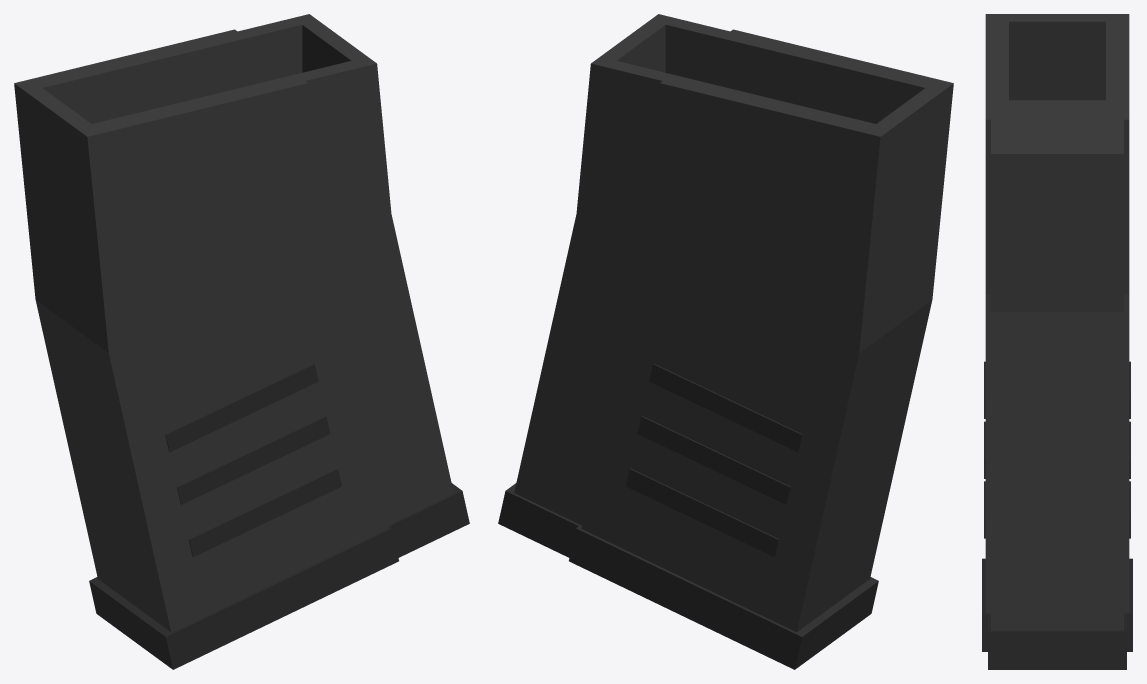
File: SniperRifle6_05_2.fbx
3 renders of one model, left to right at view 1: azimuth 30°, elevation 25°; view 2: azimuth 150°, elevation 25°; view 3: azimuth 270°, elevation 25°, orthographic.
Parts seen in each view (by area): view 1: SniperRifle6_05_2; view 2: SniperRifle6_05_2; view 3: SniperRifle6_05_2.
Boxes of the visible parts, box(x1,y1,x2,y2) form: SniperRifle6_05_2: box(14, 14, 469, 669); SniperRifle6_05_2: box(498, 14, 953, 669); SniperRifle6_05_2: box(982, 14, 1132, 669).
Size of the model in its own units: 0.0906 by 0.1246 by 0.0314.
